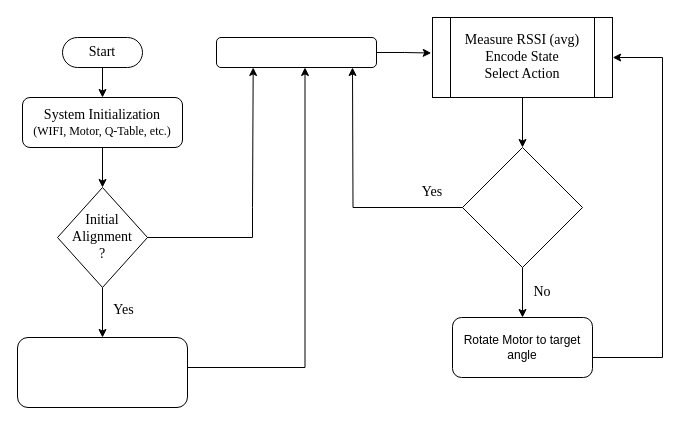
This 688x425 diagram has some shape labels left out. Each missing label, with the centre of its shape:
"Action == STAY" goes at pixel 522 207.
"Perform Exhaustive Scan (Set best angle, Note RSSI value)" goes at pixel 102 372.
"Wait for Short Interval" goes at pixel 296 52.
